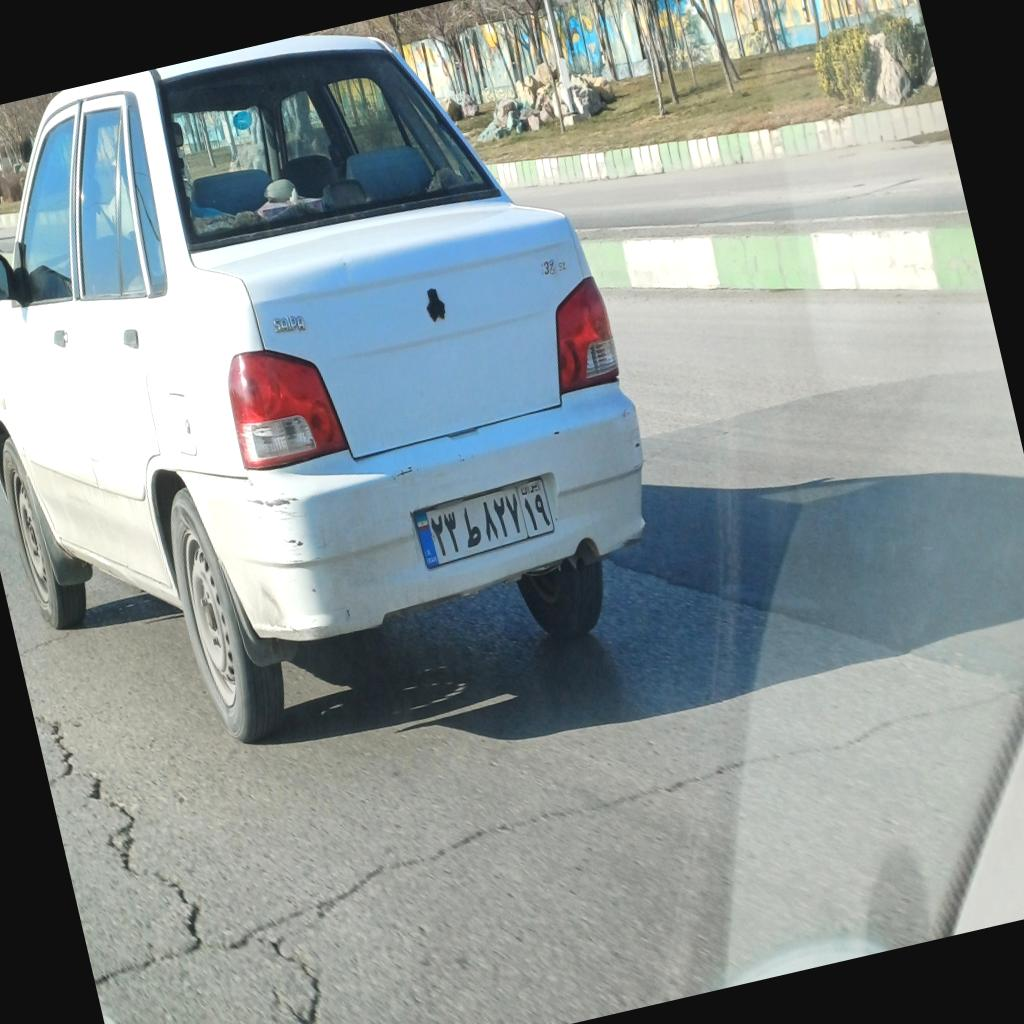Plates: (407, 474, 560, 570)
